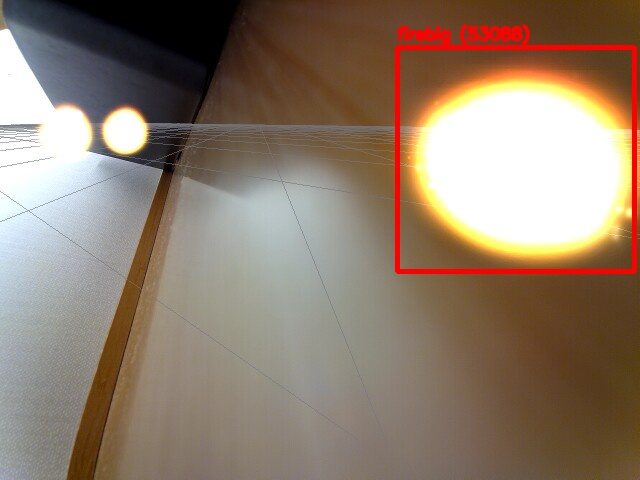firebig: (397, 47, 634, 271)
